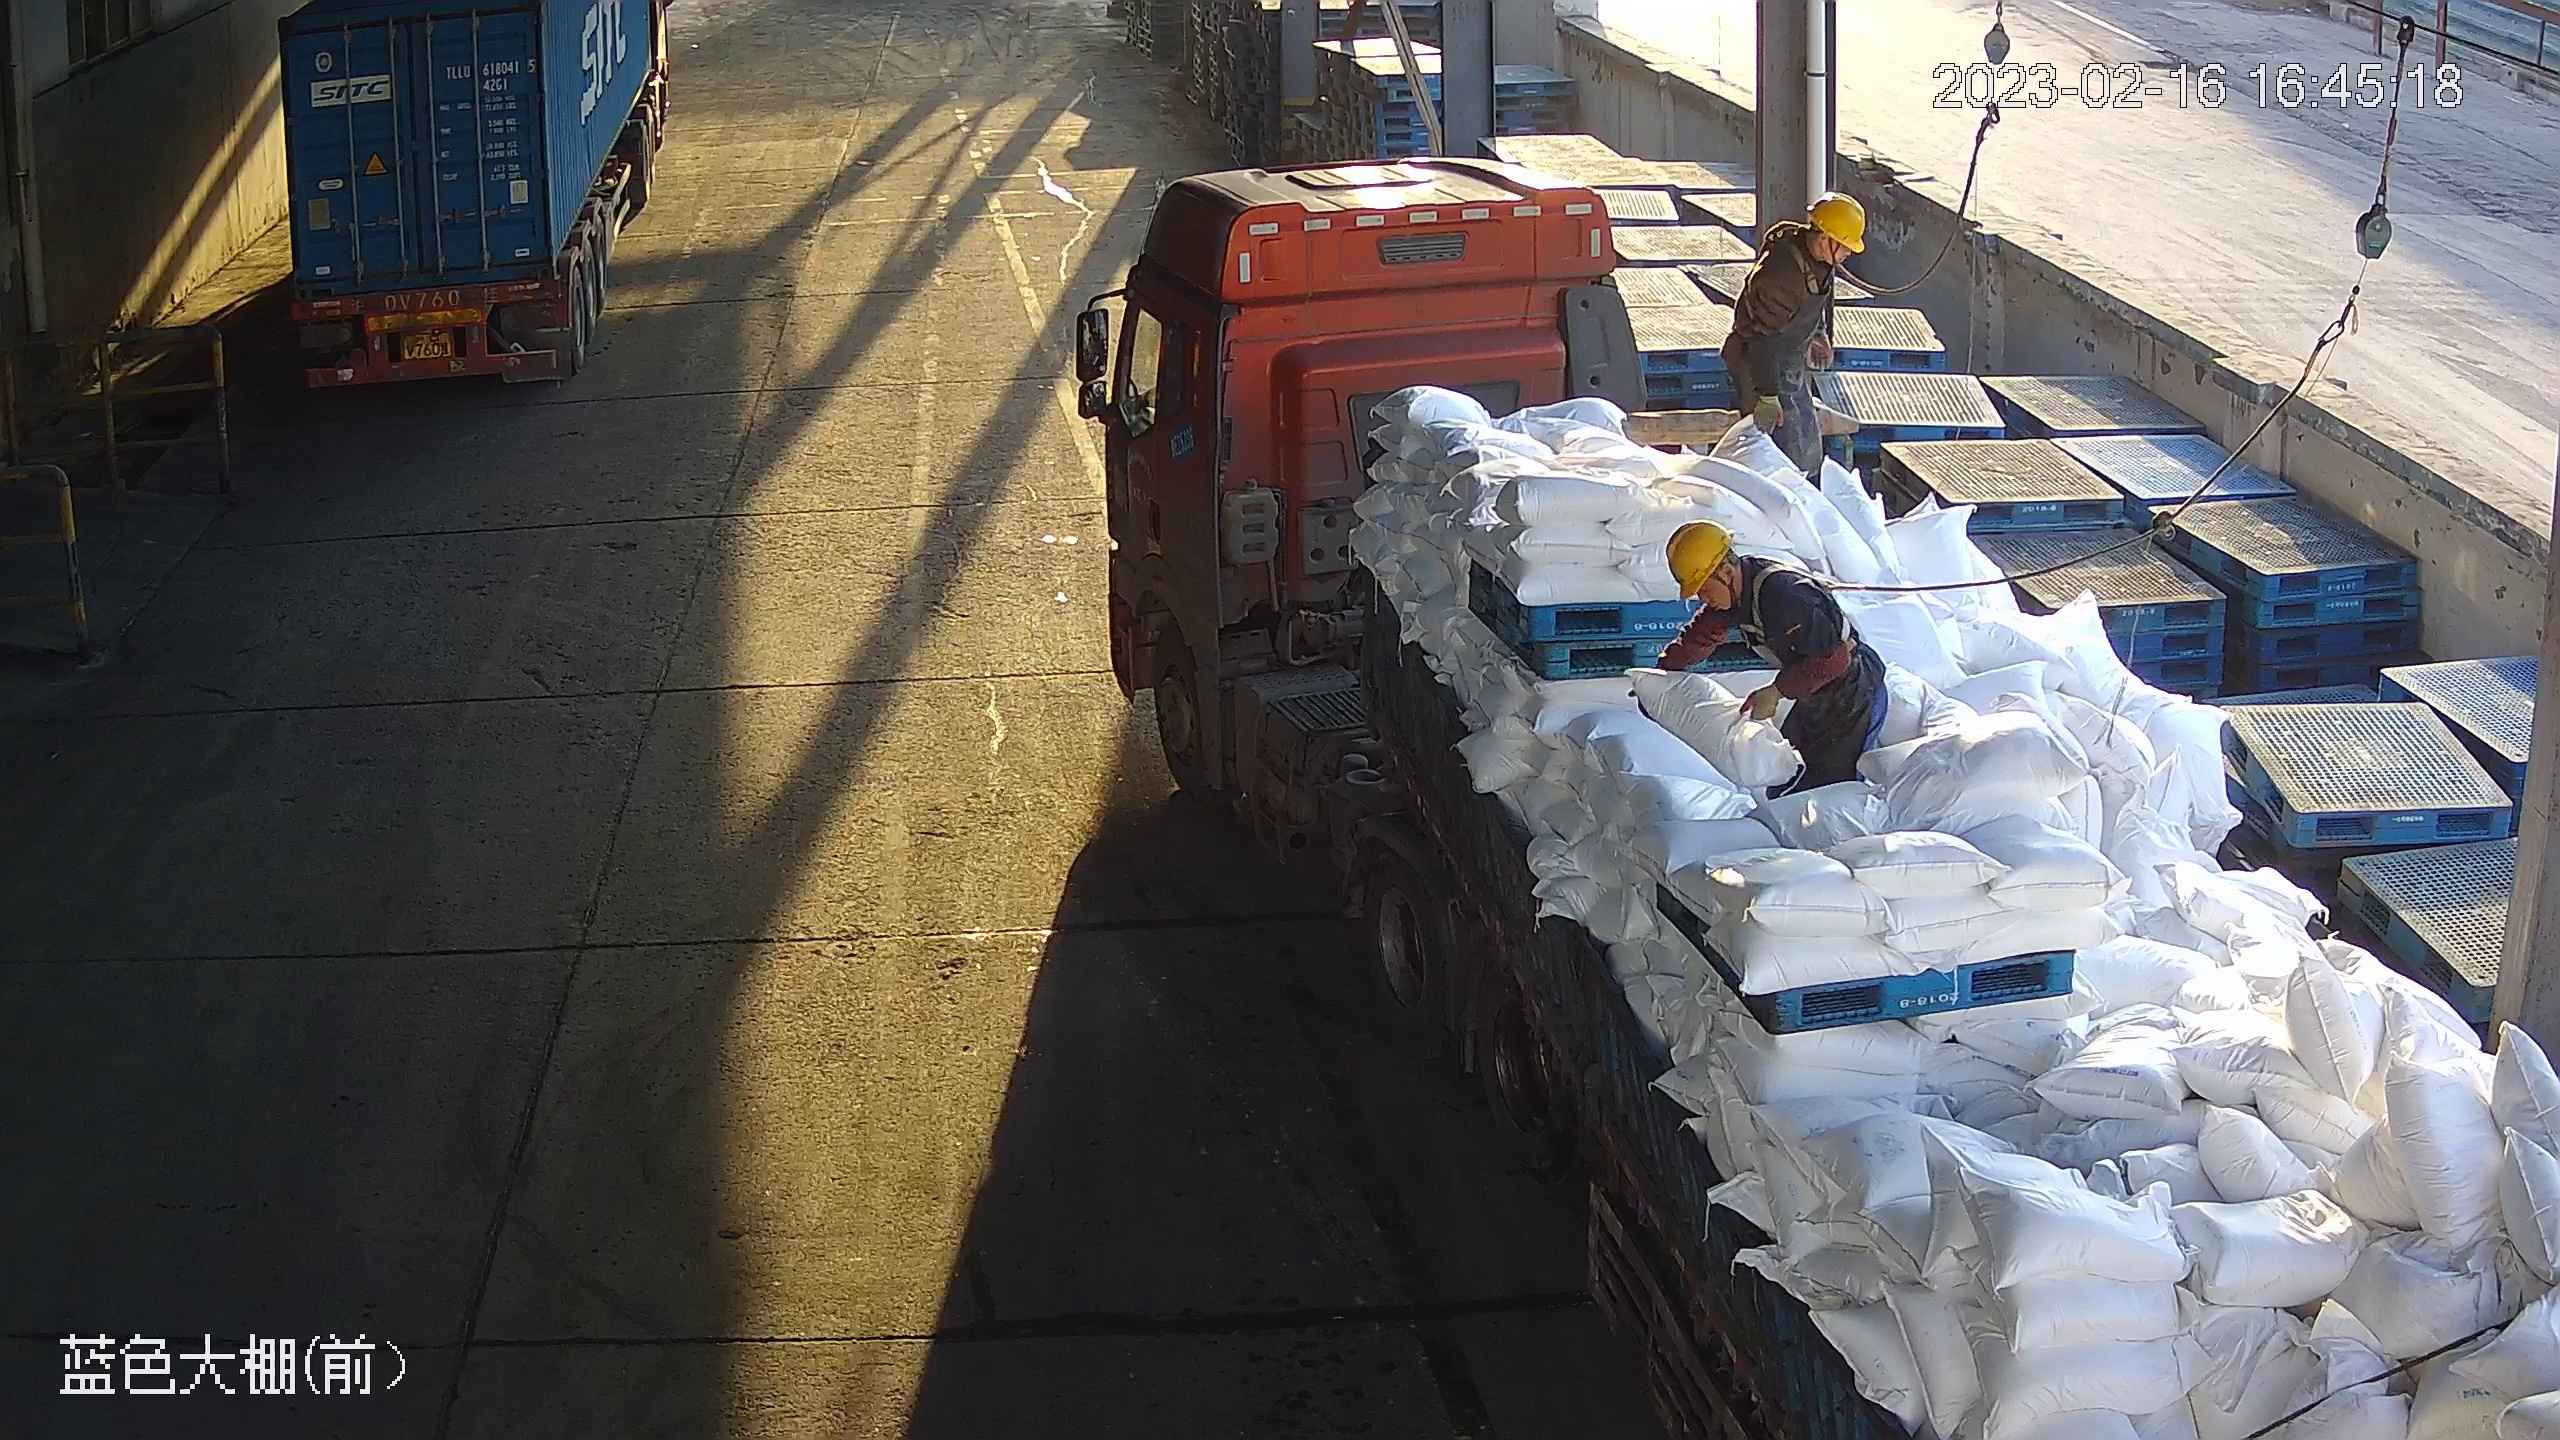belt: (1733, 555, 1864, 674), (1774, 225, 1864, 310)
head: (1662, 519, 1842, 624), (1751, 193, 1870, 307)
helmet: (1664, 518, 1736, 601), (1805, 190, 1868, 255)
people: (1658, 517, 1889, 801), (1716, 191, 1867, 496)
truck: (1100, 155, 2560, 1440), (258, 8, 679, 404)
